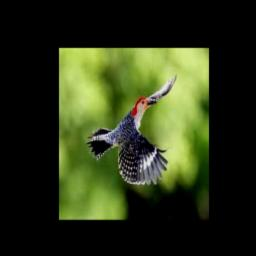Woodpecker: (87, 73, 177, 185)
